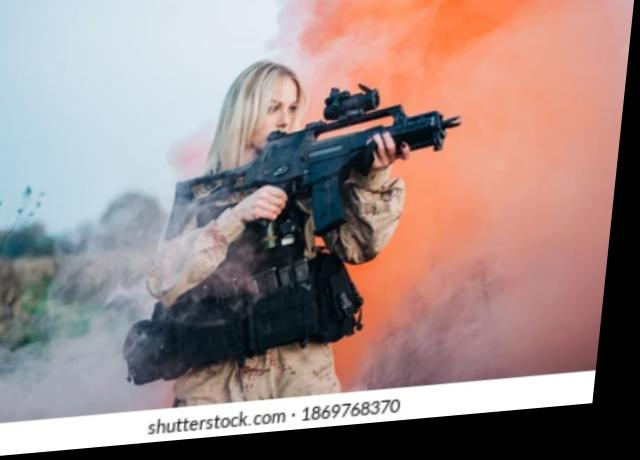other: (172, 62, 388, 362)
